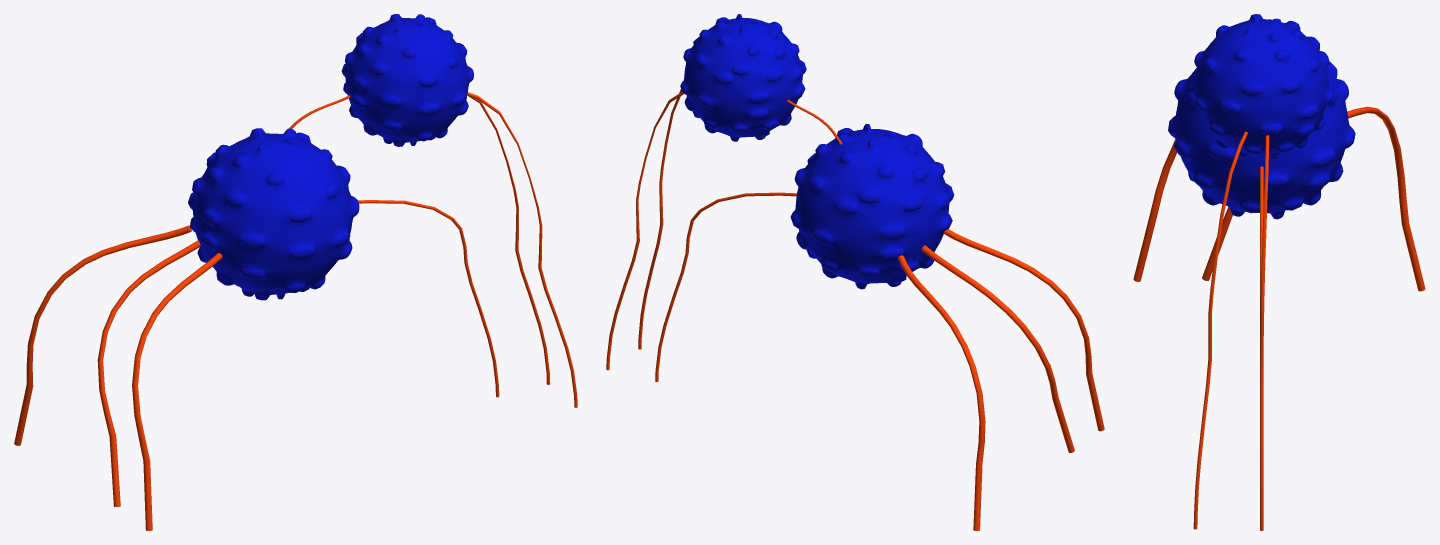
The model's file is sculpture2.obj.
The picture shows the model from 3 angles, left to right: view 1: azimuth 30°, elevation 25°; view 2: azimuth 150°, elevation 25°; view 3: azimuth 270°, elevation 25°; orthographic projection. The views are drawn at different scales.
Visible parts, largest first — view 1: polySurface1_polySurface1, polySurface2_polySurface2, polySurface5_polySurface5, polySurface4_polySurface4, polySurface6_polySurface6, polySurface9_polySurface9, polySurface7_polySurface7, polySurface8_polySurface8; view 2: polySurface1_polySurface1, polySurface2_polySurface2, polySurface4_polySurface4, polySurface5_polySurface5, polySurface6_polySurface6, polySurface7_polySurface7, polySurface8_polySurface8, polySurface9_polySurface9; view 3: polySurface2_polySurface2, polySurface1_polySurface1, polySurface4_polySurface4, polySurface9_polySurface9, polySurface8_polySurface8, polySurface5_polySurface5, polySurface6_polySurface6, polySurface7_polySurface7.
Boxes of the visible parts, left/top/right/bottom form: polySurface1_polySurface1: left=188, top=128, right=359, bottom=300; polySurface2_polySurface2: left=341, top=14, right=473, bottom=146; polySurface5_polySurface5: left=132, top=253, right=222, bottom=530; polySurface4_polySurface4: left=14, top=225, right=191, bottom=445; polySurface6_polySurface6: left=97, top=240, right=200, bottom=506; polySurface9_polySurface9: left=467, top=92, right=577, bottom=407; polySurface7_polySurface7: left=358, top=200, right=499, bottom=397; polySurface8_polySurface8: left=467, top=95, right=550, bottom=384; polySurface1_polySurface1: left=790, top=123, right=954, bottom=289; polySurface2_polySurface2: left=680, top=14, right=806, bottom=141; polySurface4_polySurface4: left=897, top=255, right=985, bottom=530; polySurface5_polySurface5: left=943, top=229, right=1104, bottom=431; polySurface6_polySurface6: left=921, top=245, right=1074, bottom=452; polySurface7_polySurface7: left=655, top=192, right=796, bottom=382; polySurface8_polySurface8: left=606, top=92, right=683, bottom=370; polySurface9_polySurface9: left=638, top=89, right=681, bottom=349; polySurface2_polySurface2: left=1189, top=14, right=1333, bottom=159; polySurface1_polySurface1: left=1168, top=61, right=1355, bottom=219; polySurface4_polySurface4: left=1347, top=106, right=1425, bottom=291; polySurface9_polySurface9: left=1193, top=131, right=1247, bottom=529; polySurface8_polySurface8: left=1260, top=135, right=1269, bottom=530; polySurface5_polySurface5: left=1133, top=139, right=1177, bottom=281; polySurface6_polySurface6: left=1202, top=207, right=1232, bottom=280; polySurface7_polySurface7: left=1260, top=166, right=1263, bottom=332.
Size of the model in its own units: 33.42 by 27.73 by 16.81.
